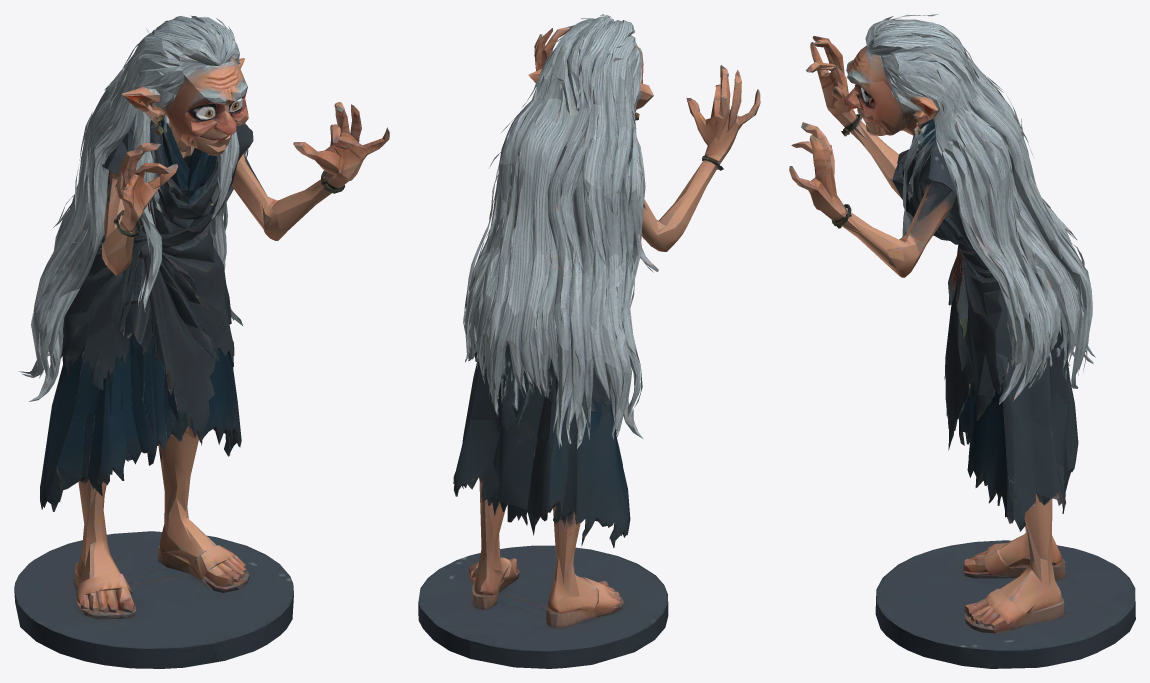
Rendered from hama2.glb.
3 views of the same model, side by side, from view 1: azimuth 30°, elevation 25°; view 2: azimuth 150°, elevation 25°; view 3: azimuth 270°, elevation 25° (orthographic). The views are drawn at different scales.
Bounding box in the file's own units: 0.8286 × 1.9 × 1.02.
1 material, 1 textured.
